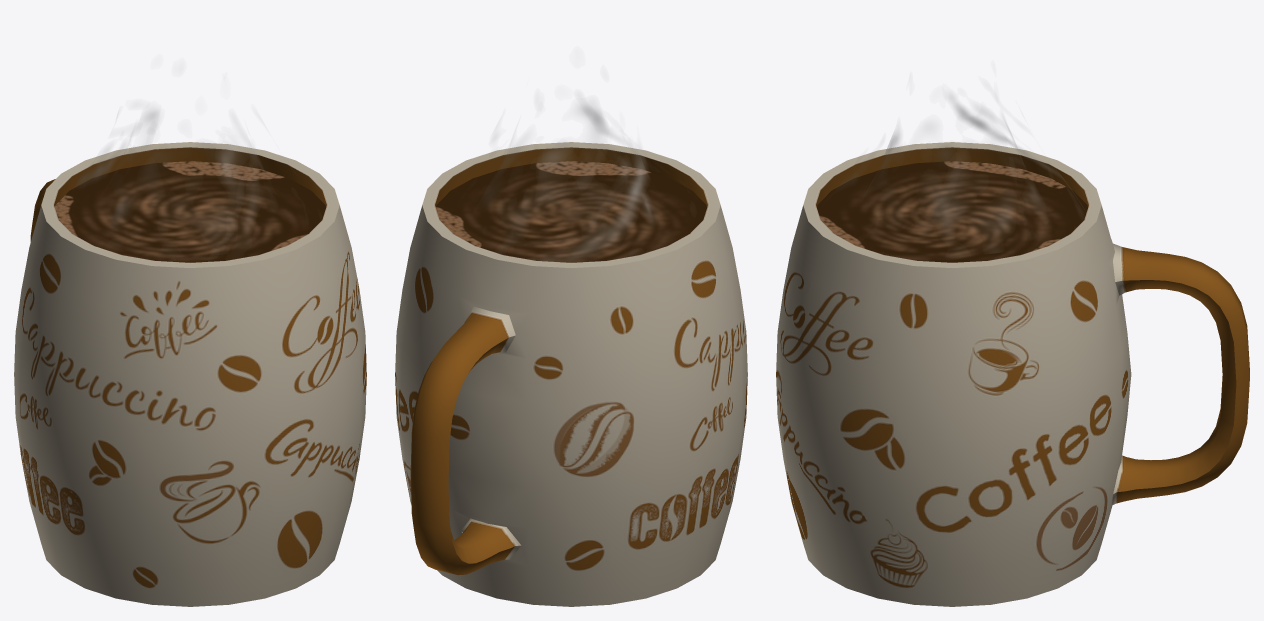
The model's file is cup_of_coffee3.glb.
The picture shows the model from 3 angles, left to right: view 1: azimuth 30°, elevation 25°; view 2: azimuth 150°, elevation 25°; view 3: azimuth 270°, elevation 25°; orthographic projection.
Visible parts, largest first — view 1: Cylinder168__0, Object021__0, Cylinder171__0, Cylinder169__0; view 2: Cylinder168__0, Object021__0, Cylinder171__0, Cylinder169__0; view 3: Cylinder168__0, Object021__0, Cylinder171__0, Cylinder169__0.
Boxes of the visible parts, box(x1,y1,x2,y2) form: Cylinder168__0: box(14, 142, 366, 606); Object021__0: box(54, 161, 326, 262); Cylinder171__0: box(113, 109, 263, 229); Cylinder169__0: box(76, 145, 254, 212); Cylinder168__0: box(395, 142, 747, 606); Object021__0: box(435, 161, 707, 262); Cylinder171__0: box(482, 105, 651, 226); Cylinder169__0: box(573, 130, 646, 256); Cylinder168__0: box(776, 142, 1249, 606); Object021__0: box(816, 161, 1087, 262); Cylinder171__0: box(868, 119, 1038, 228); Cylinder169__0: box(849, 96, 1062, 181).
Bounding box in the file's own units: 2.03 × 3.21 × 2.73.
Materials: 2 (2 with a texture image).
